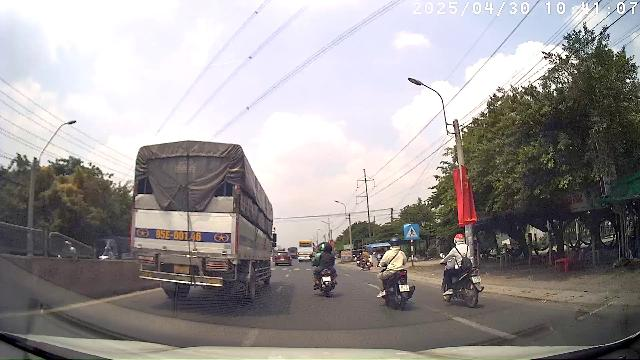423a-duong-nguoi-di-bo-sang-ngang-1: (405, 224, 419, 240)
